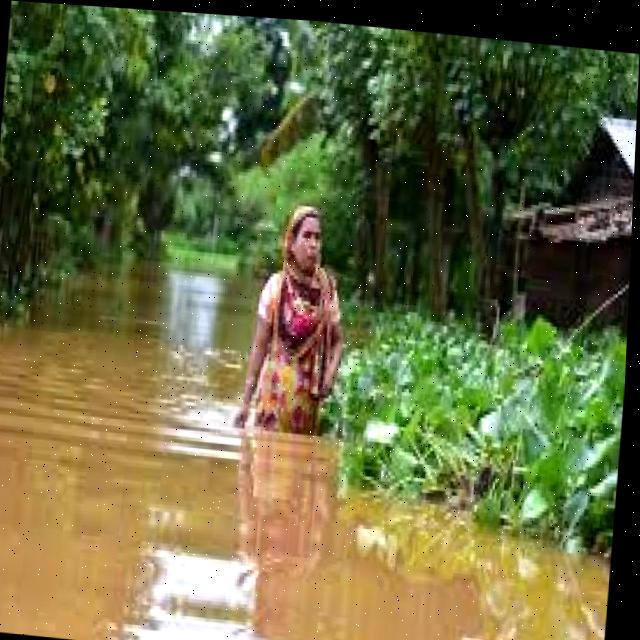civilian: (224, 197, 396, 452)
